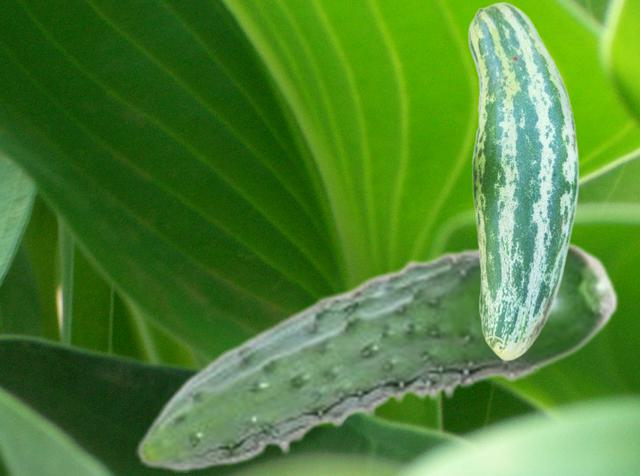cucumber: (135, 237, 619, 471), (467, 1, 578, 360)
